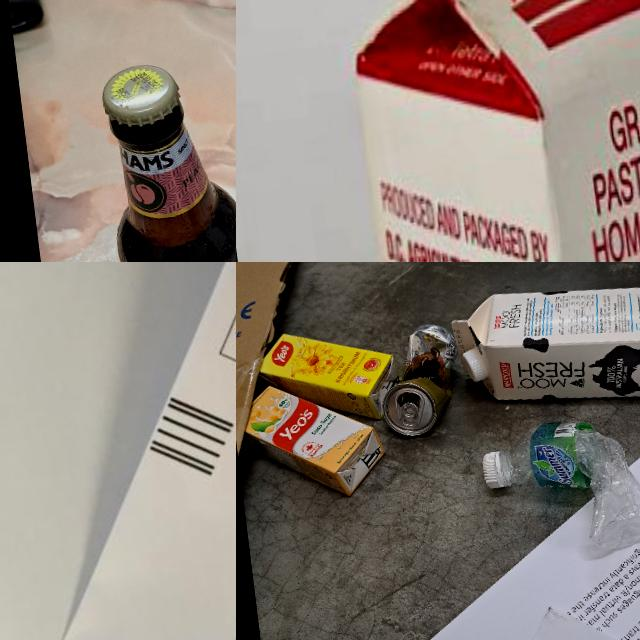aba de lata: (400, 401, 420, 428)
caixinha: (321, 0, 640, 262), (448, 268, 640, 428), (238, 372, 390, 506), (256, 318, 404, 432)
garrafa de vidro: (96, 51, 236, 262)
garrafa plástica: (501, 412, 640, 560)
lata: (373, 320, 466, 440)
papel: (0, 262, 236, 640), (393, 421, 640, 640)
papelão: (236, 262, 334, 484)
tampa plástica: (482, 450, 506, 490), (460, 349, 485, 384)
